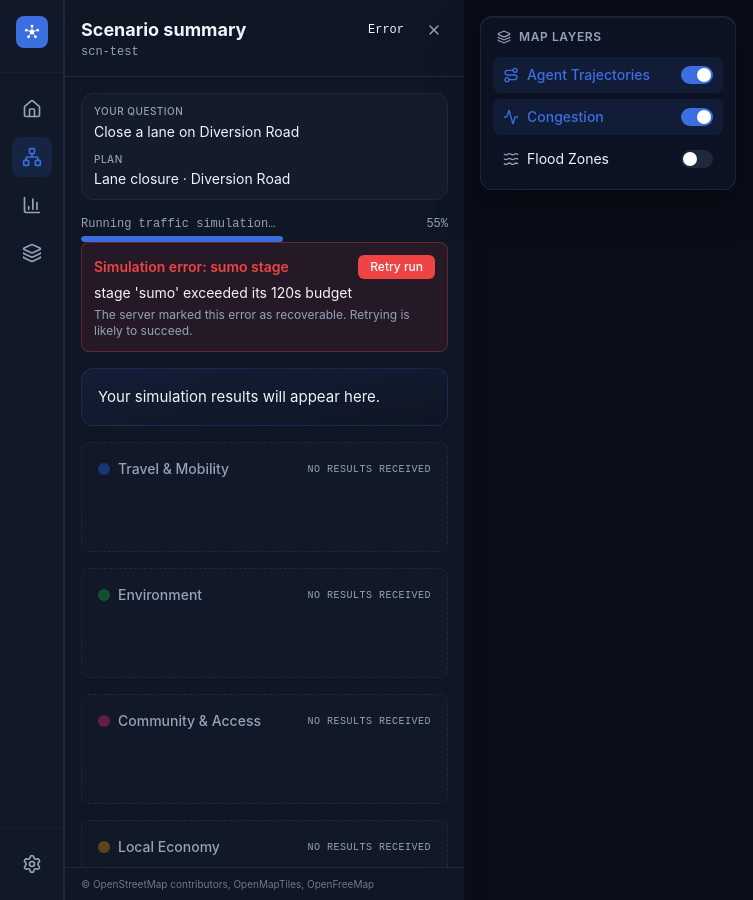
Test case: ScenarioSimulation page (progressive run UX) › renders the ERROR banner and retry opens a fresh socket
Expected: the message with test id "error-banner" shows "sumo stage", [202,258,289,275]
Expected: the message with test id "error-banner" shows "exceeded its 120s budget", [94,284,352,301]
Step 1. Click the button "Retry run" → [397, 267], box [358,255,435,279]
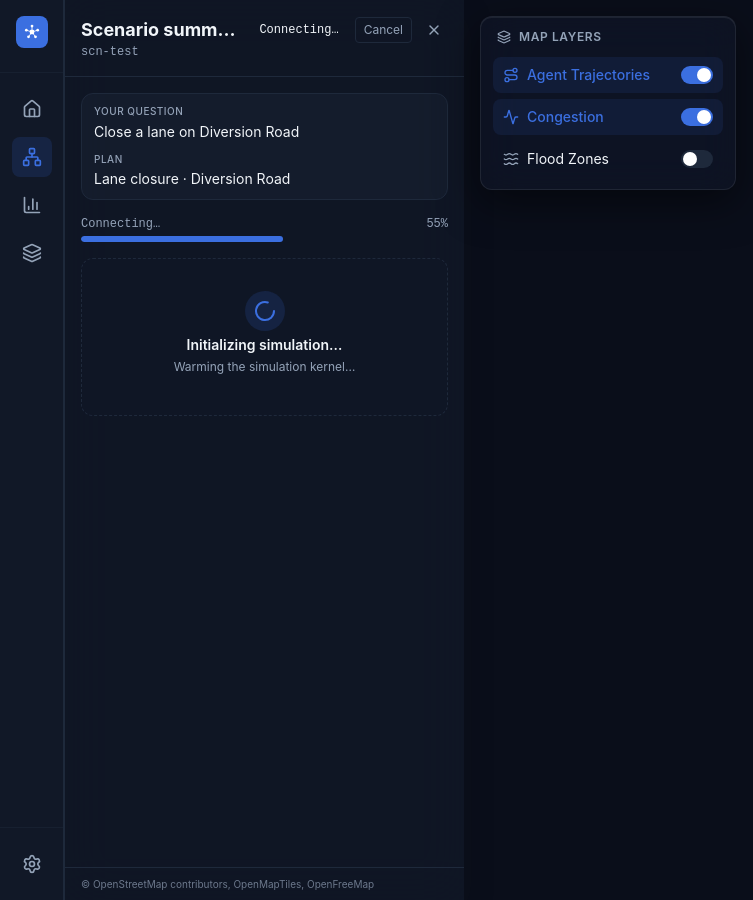
Expected: the text with test id "ws-status" reads "Connecting…", [259,23,339,37]
Expected: the message with test id "error-banner" is gone
